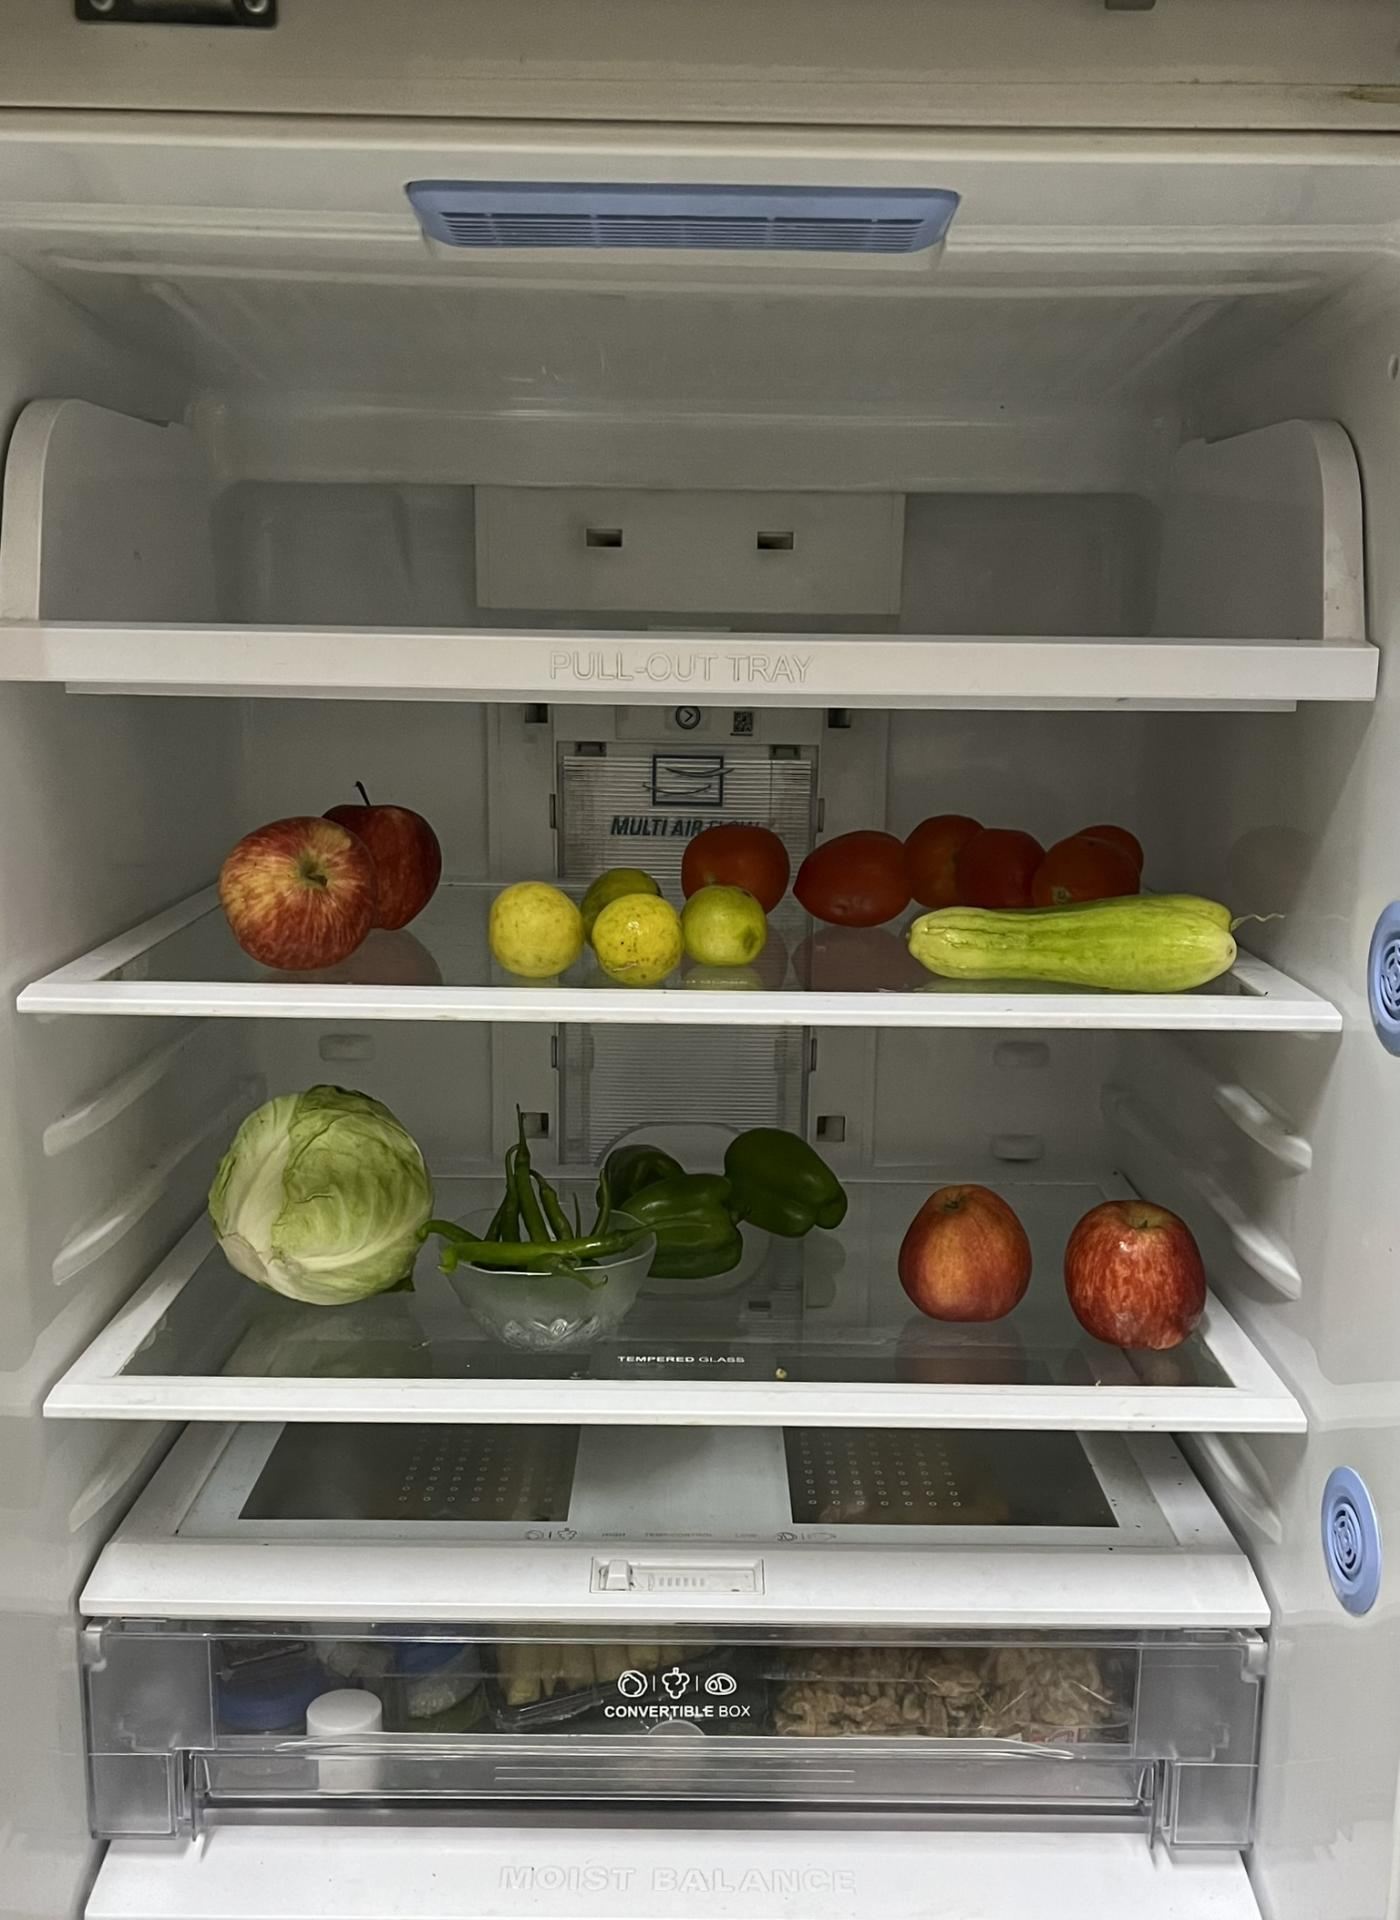apple: (216, 789, 441, 966), (1062, 1196, 1208, 1364), (896, 1182, 1033, 1330)
cabbage: (204, 1082, 437, 1304)
capsicum: (596, 1136, 841, 1279)
chillies: (440, 1108, 638, 1278)
cucumber: (917, 890, 1245, 984)
lemon: (486, 868, 774, 982)
tomato: (686, 814, 1136, 917)
